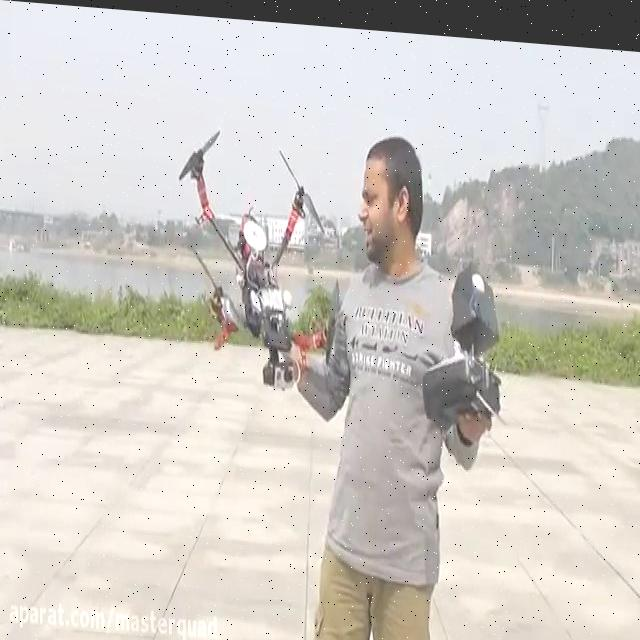drone: (176, 121, 342, 388)
